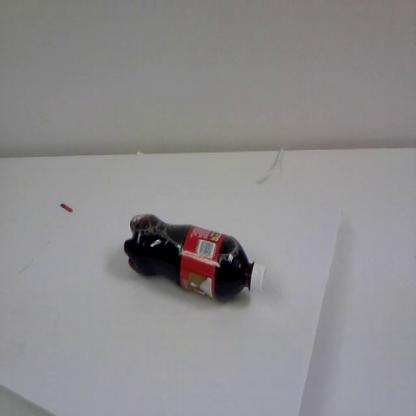bottle: (123, 211, 268, 307)
